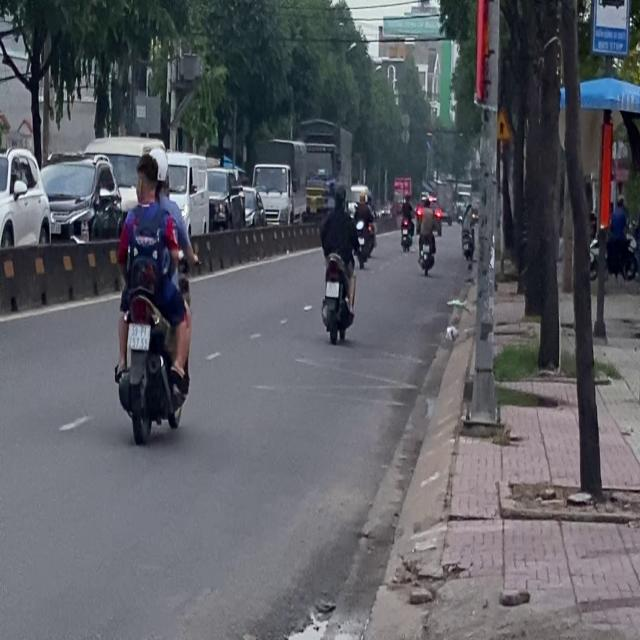helmet: (149, 148, 168, 193)
licenseplate: (110, 146, 195, 442)
motorcyclist: (134, 152, 159, 202)
nohelmet: (128, 323, 150, 350)
